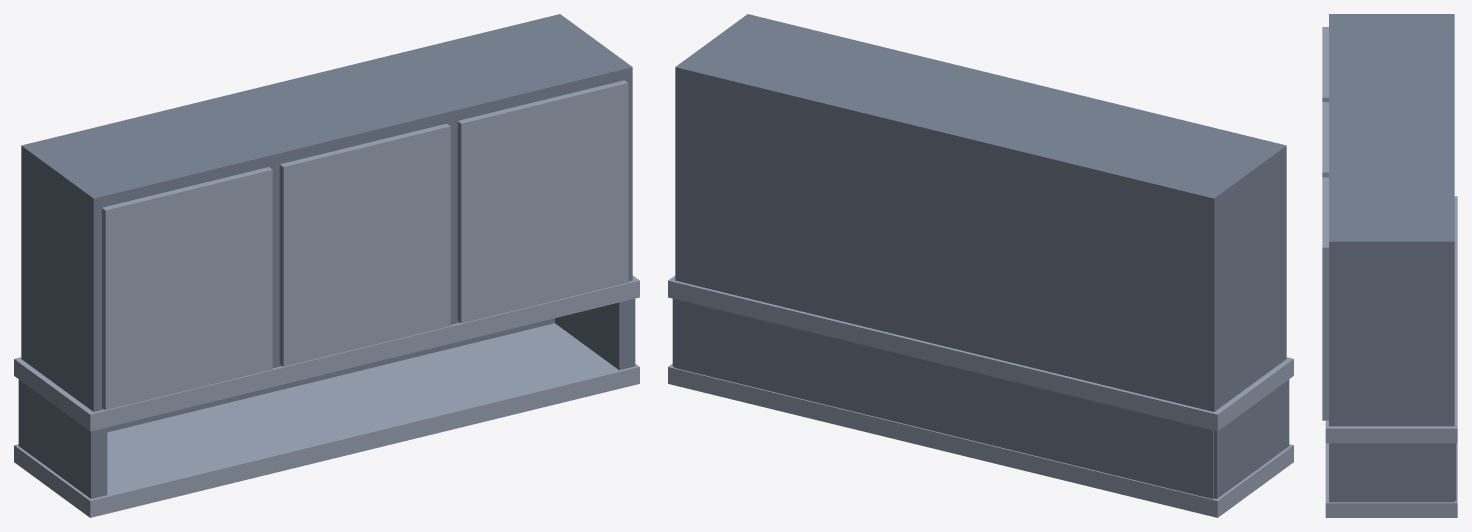
File: 吊柜-lite.glb
The picture shows the model from 3 angles, left to right: view 1: azimuth 30°, elevation 25°; view 2: azimuth 150°, elevation 25°; view 3: azimuth 270°, elevation 25°; orthographic projection. The views are drawn at different scales.
Visible parts, largest first — view 1: wallcabinet; view 2: wallcabinet; view 3: wallcabinet.
Boxes of the visible parts, bbox=[...] form: wallcabinet: bbox=[14, 14, 639, 517]; wallcabinet: bbox=[668, 14, 1293, 517]; wallcabinet: bbox=[1322, 14, 1457, 517].
Bounding box in the file's own units: 1.53 × 0.8423 × 0.3769.
